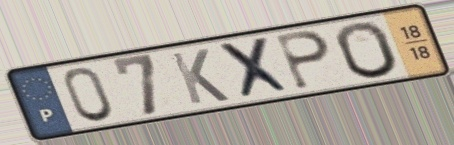0: (62, 66, 115, 124)
7: (108, 52, 162, 119)
K: (167, 46, 233, 106)
O: (332, 20, 402, 81)
P: (273, 29, 335, 92)
X: (213, 35, 297, 102)
